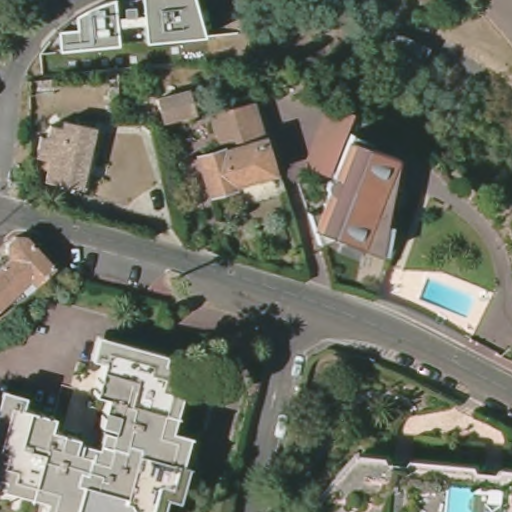pool: (418, 275, 475, 318), (444, 486, 476, 508)
